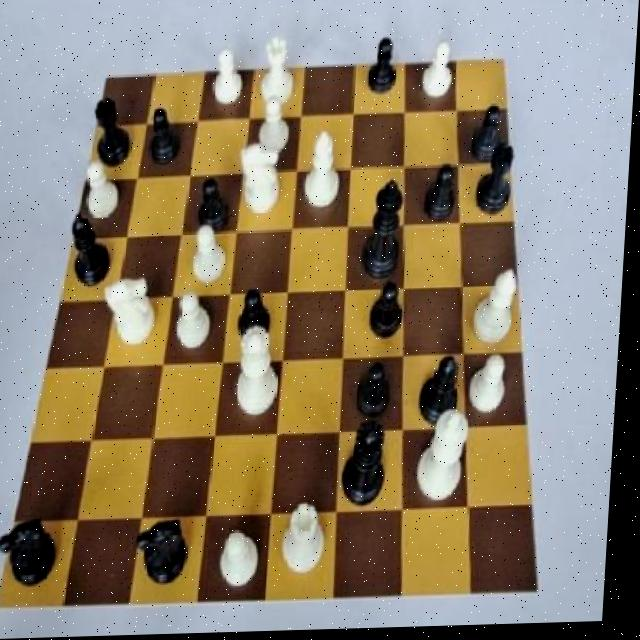bishop: (413, 352, 469, 438), (66, 208, 118, 300)
black-bishop: (360, 178, 413, 290)
black-king: (2, 508, 74, 606), (138, 510, 201, 598)
black-knight: (363, 280, 416, 357), (352, 356, 407, 425), (234, 281, 285, 353), (141, 103, 189, 175), (362, 31, 407, 106), (464, 103, 514, 169), (420, 160, 467, 228), (192, 173, 238, 235)
black-pawn: (340, 415, 401, 518)
black-queen: (87, 90, 139, 176), (474, 140, 525, 222)
black-rook: (473, 266, 529, 359), (300, 132, 353, 224)
white-bishop: (420, 402, 478, 512)
white-king: (103, 274, 168, 356), (237, 138, 296, 226)
white-knight: (170, 283, 225, 362), (80, 156, 135, 233), (221, 522, 274, 597), (467, 356, 521, 428), (203, 37, 251, 117), (252, 96, 300, 167), (189, 222, 237, 293), (418, 38, 467, 107)
white-pawn: (234, 325, 288, 430)
white-queen: (281, 495, 337, 592), (256, 36, 302, 116)
